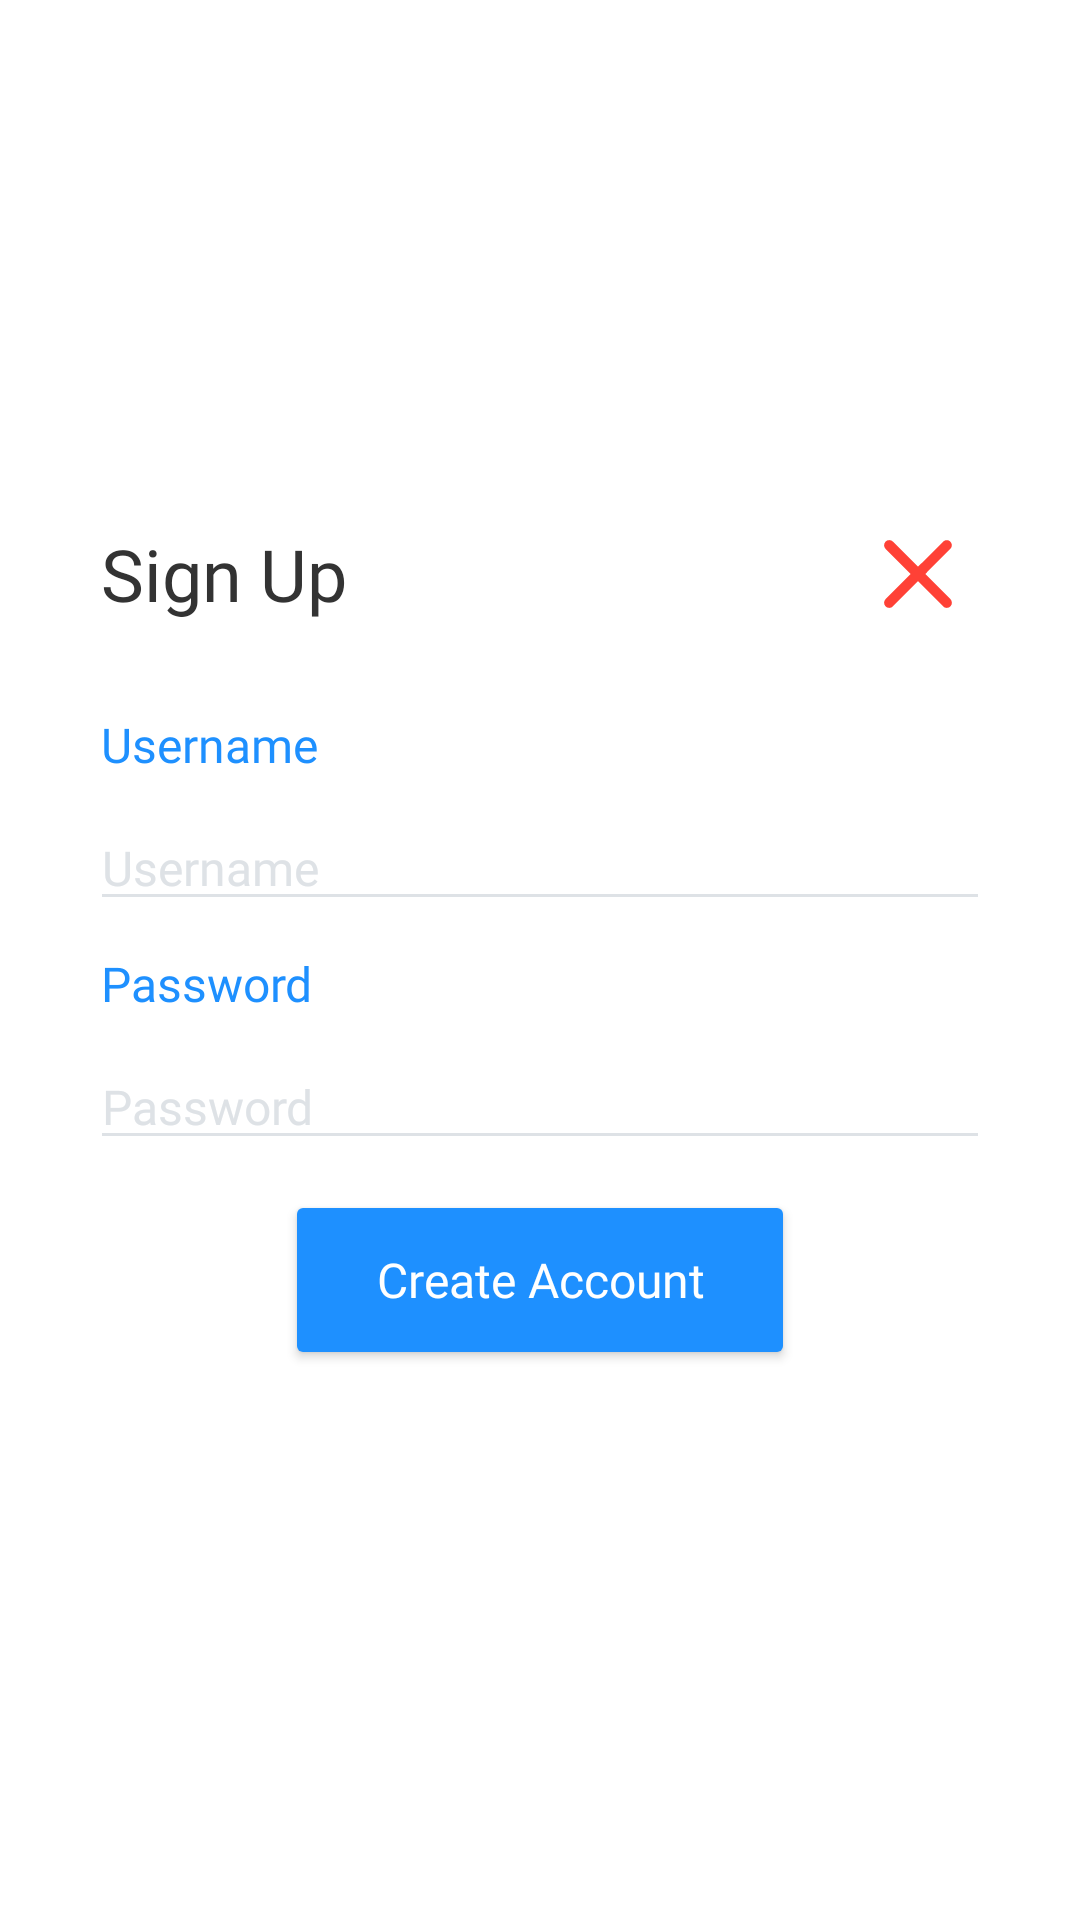

Named icons in this screenshot (1080 x 1920) and their bounding boxes, (x1, y1, x2, y2):
close: (884, 540, 952, 608)
